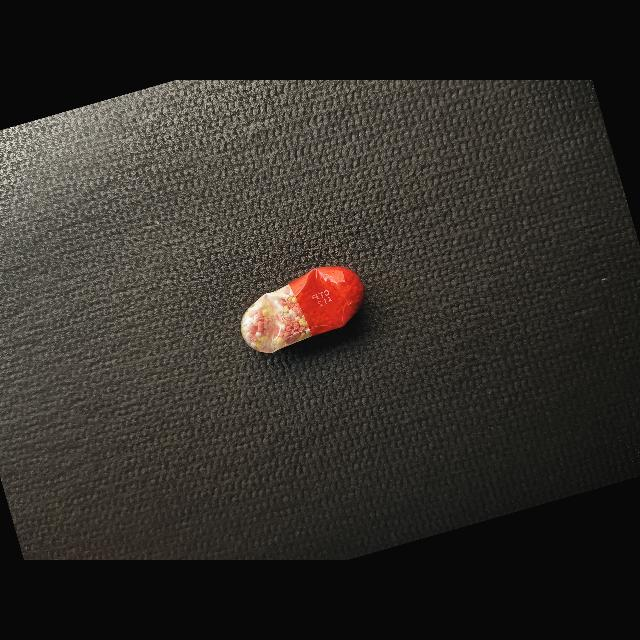Defective Capsule: (241, 266, 364, 353)
